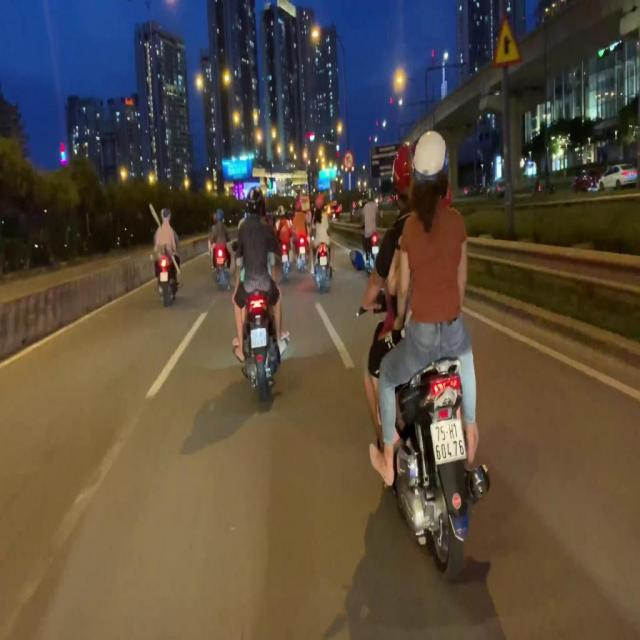cam_re_trai: (343, 151, 354, 171)
duong_mot_chieu: (345, 172, 354, 190)
giao_nhau_voi_duong_khong_uu_tien: (493, 9, 523, 66)
